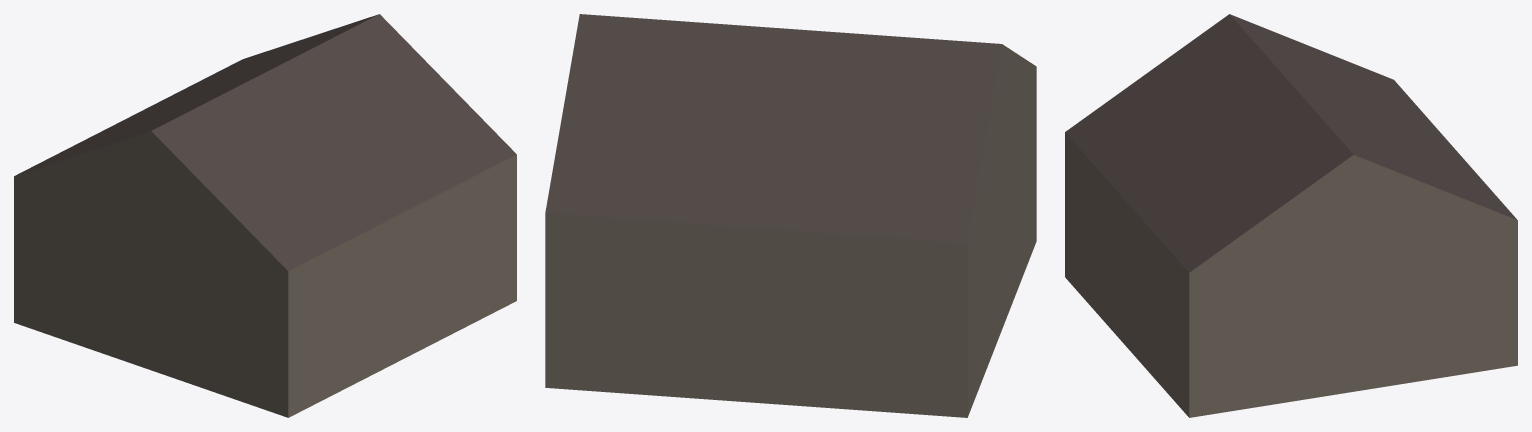
The picture shows the model from 3 angles, left to right: view 1: azimuth 30°, elevation 25°; view 2: azimuth 150°, elevation 25°; view 3: azimuth 270°, elevation 25°; orthographic projection. The views are drawn at different scales.
Visible parts, largest first — view 1: HP-w640649427; view 2: HP-w640649427; view 3: HP-w640649427.
Boxes of the visible parts, x1,y1,x2,y2 form: HP-w640649427: (14,14,516,417); HP-w640649427: (545,14,1036,417); HP-w640649427: (1065,14,1517,417).
Bounding box in the file's own units: 17.12 × 9.8 × 16.97.
